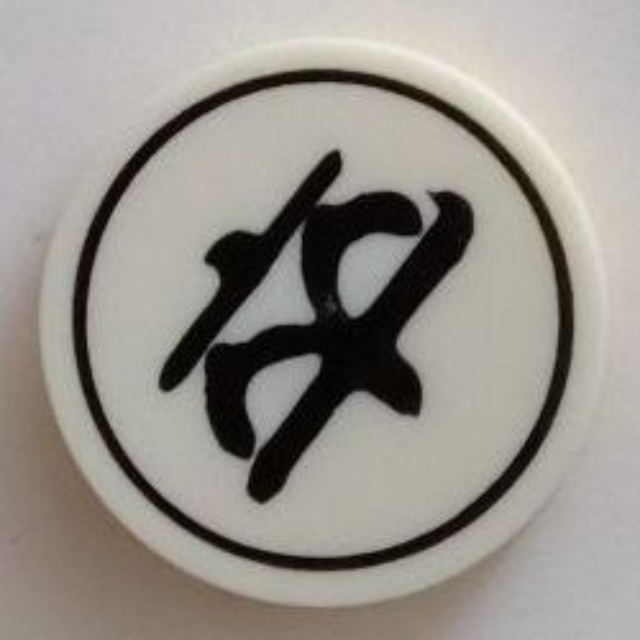black_chot: (34, 31, 624, 613)
